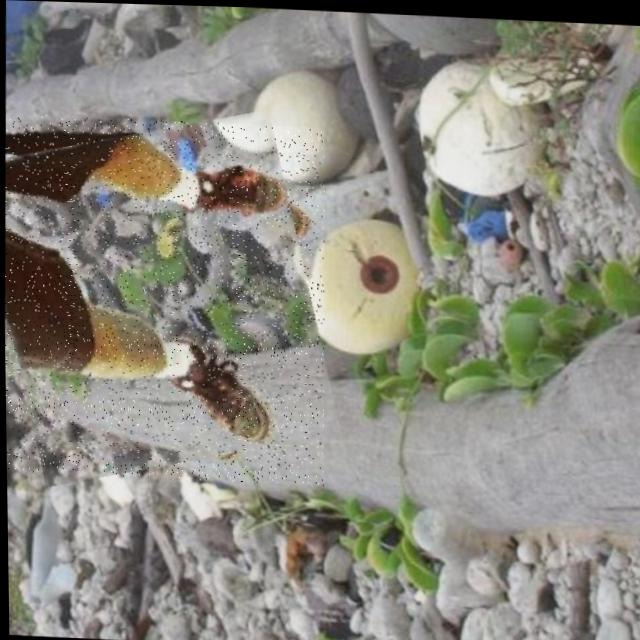Person in Rubble: (1, 111, 328, 482)
